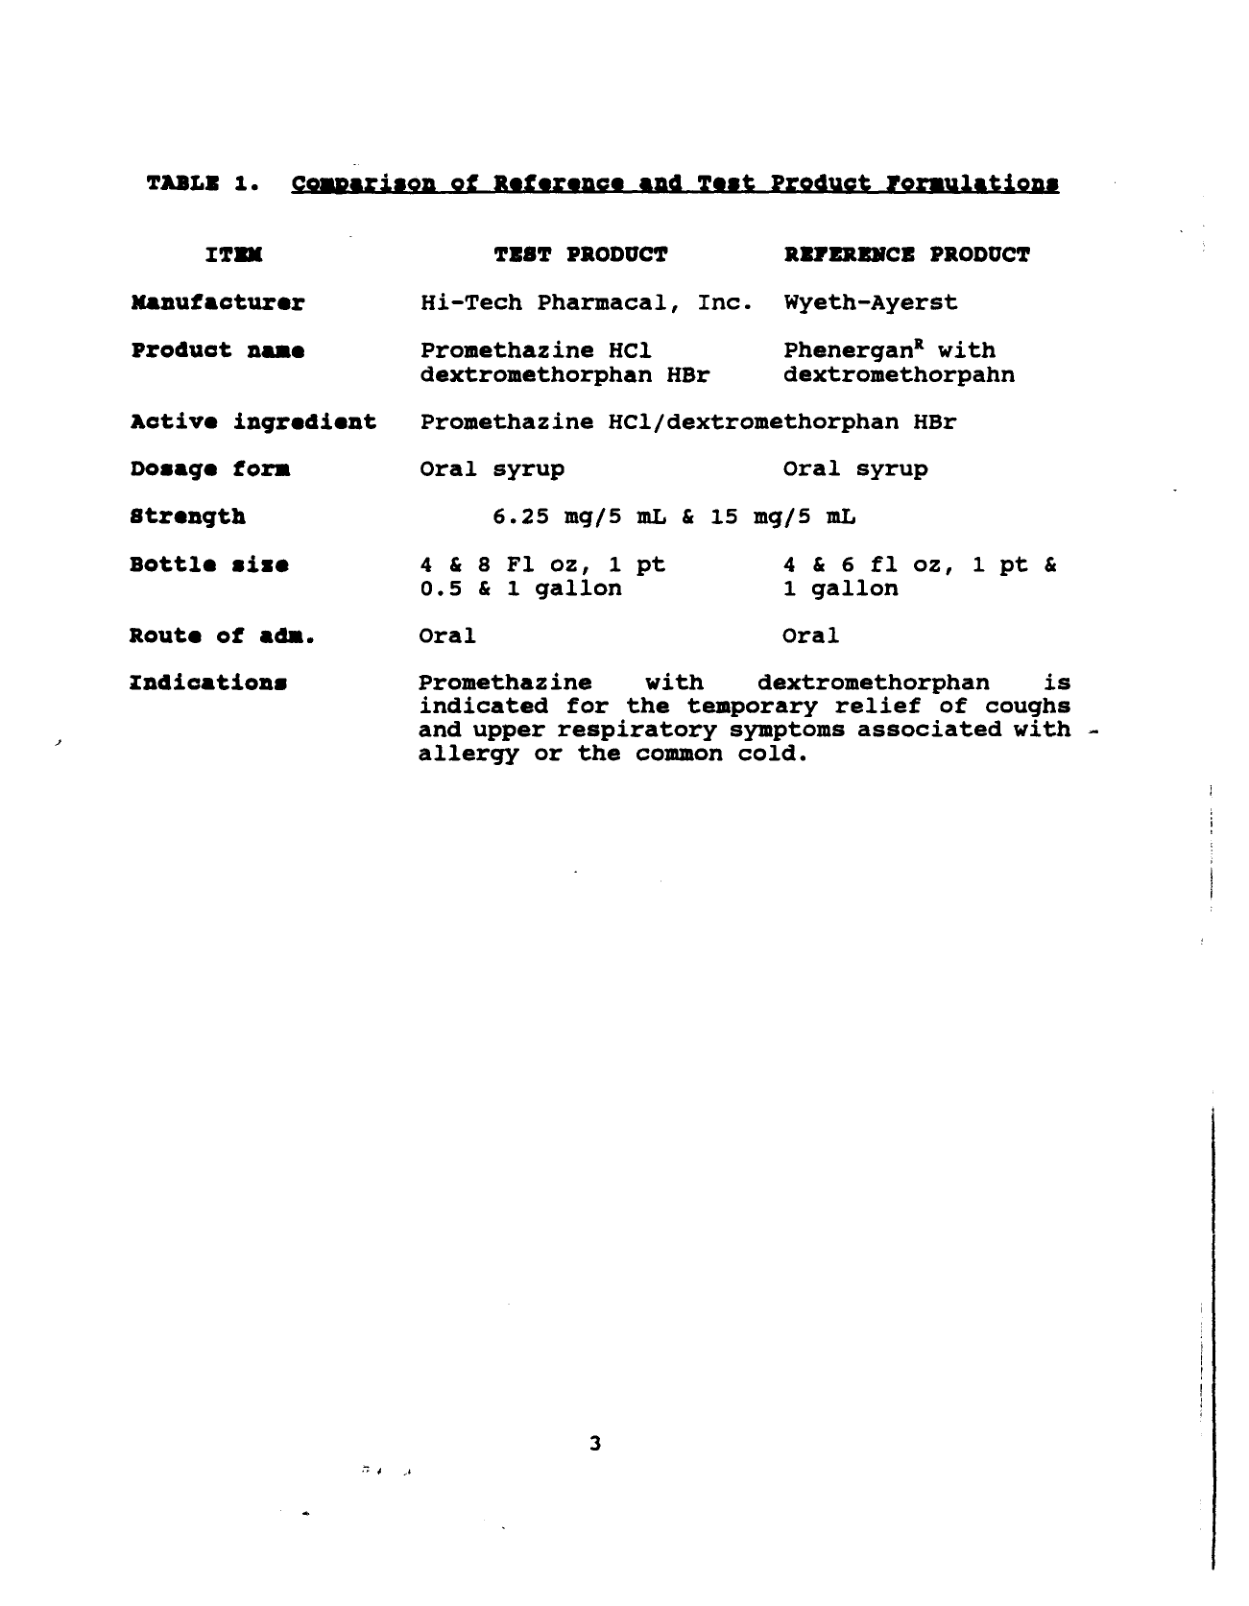nolines: (129, 244, 1076, 768)
